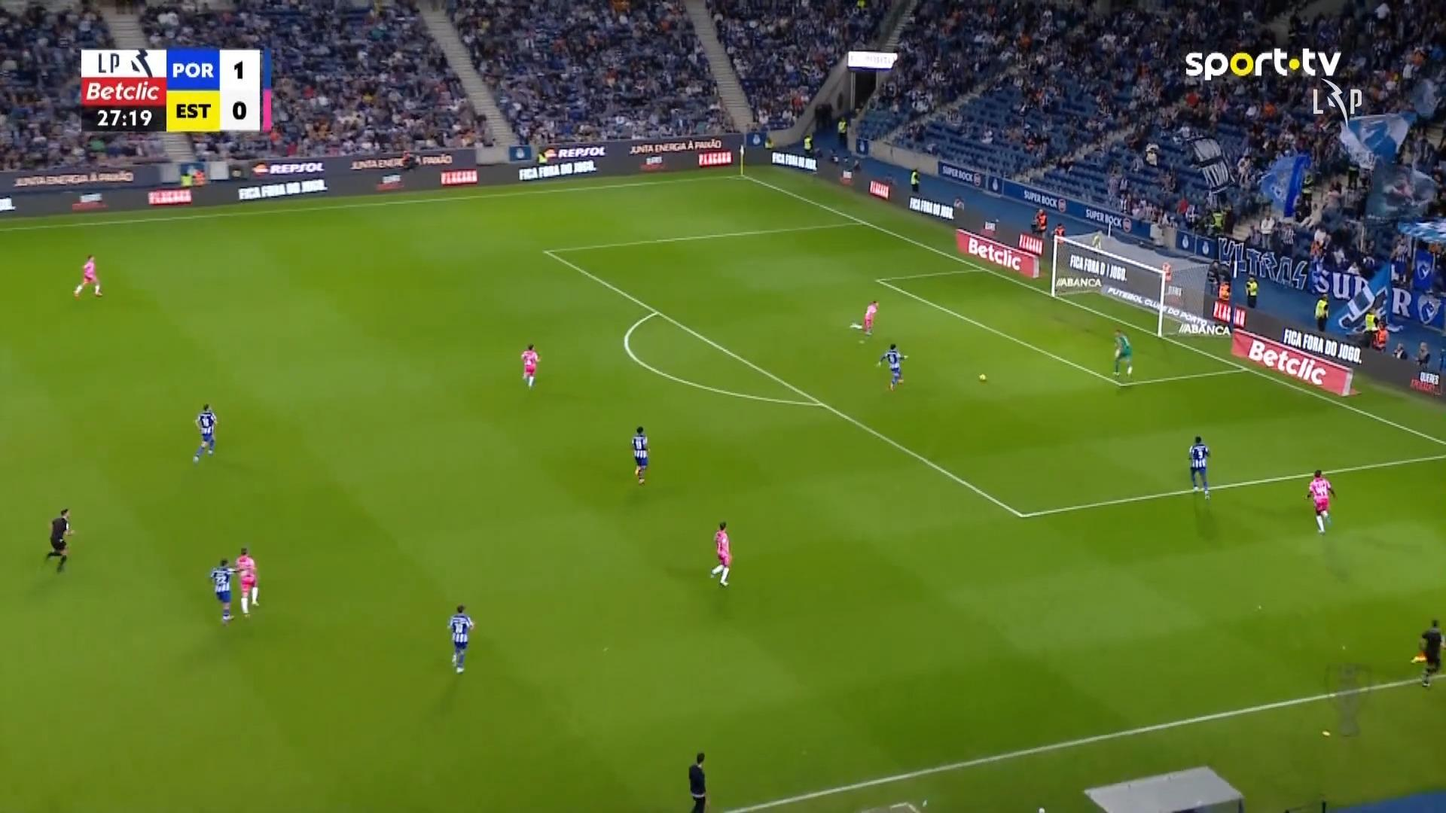ball: (978, 373, 987, 381)
goalkeeper: (1111, 327, 1133, 376)
player: (1305, 468, 1336, 534), (447, 604, 474, 673), (233, 546, 259, 617), (209, 558, 237, 623), (709, 520, 732, 586), (1188, 435, 1211, 500), (876, 343, 907, 391), (192, 403, 217, 462), (72, 253, 102, 297), (630, 425, 648, 484), (520, 343, 540, 388), (859, 299, 878, 342), (1313, 294, 1329, 333), (1243, 274, 1258, 308)
referee: (1412, 617, 1444, 687), (44, 507, 75, 572), (688, 751, 706, 811)
